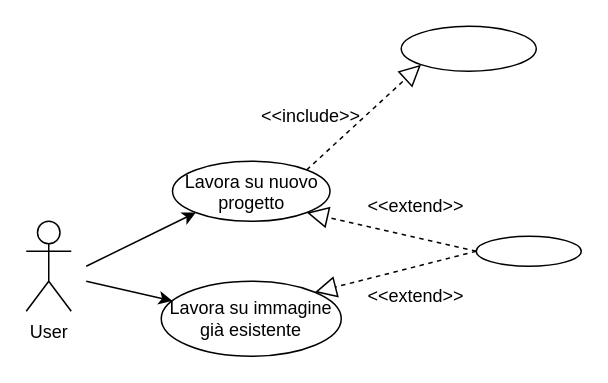
The diagram is 608 pixels wide and 383 high, and some of its shapes have lost their labels. Each missing label, with the centre of its shape:
"Salva" goes at point 528,250.
"Salva con nome" goes at point 468,48.
